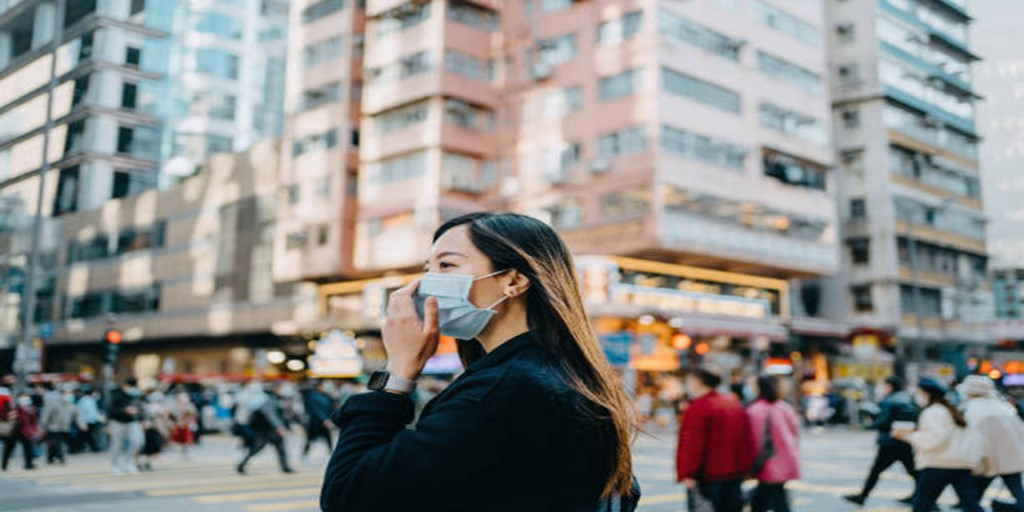face_with_mask: (409, 211, 570, 342), (403, 219, 541, 361)
